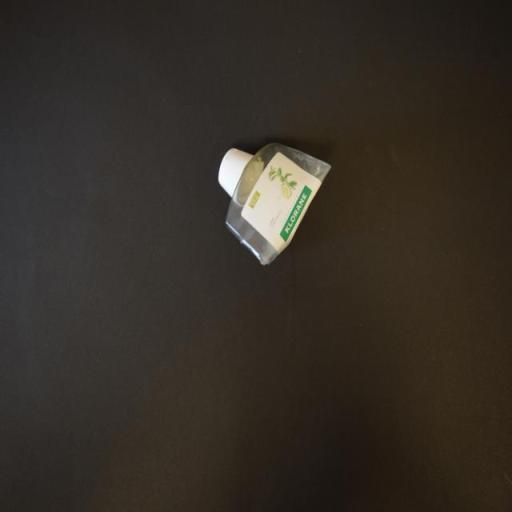plastic: (217, 140, 333, 267)
